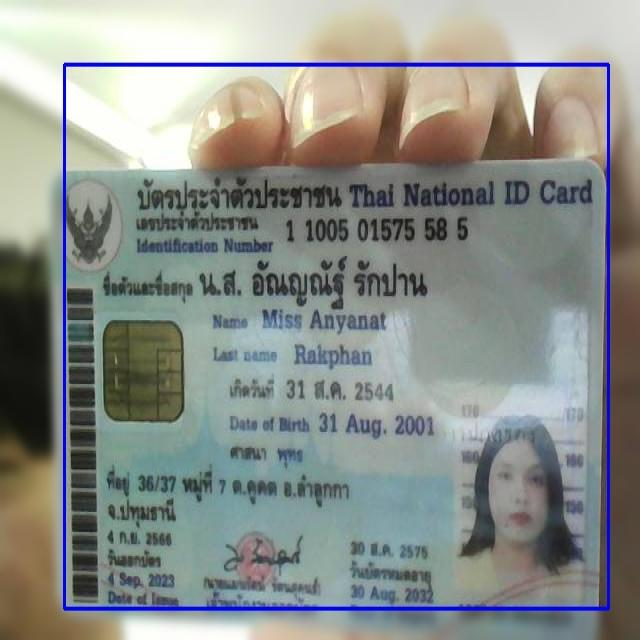Address_th: (99, 461, 358, 531)
Date_of_Birth: (317, 407, 438, 443)
Date_of_Expiry: (344, 581, 435, 605)
Date_of_Issue: (102, 567, 183, 593)
First_Name: (258, 304, 388, 338)
ID_Number: (281, 212, 477, 249)
Image: (461, 386, 585, 605)
Last_Name: (292, 340, 376, 372)
Thai_Name: (195, 252, 442, 310)
